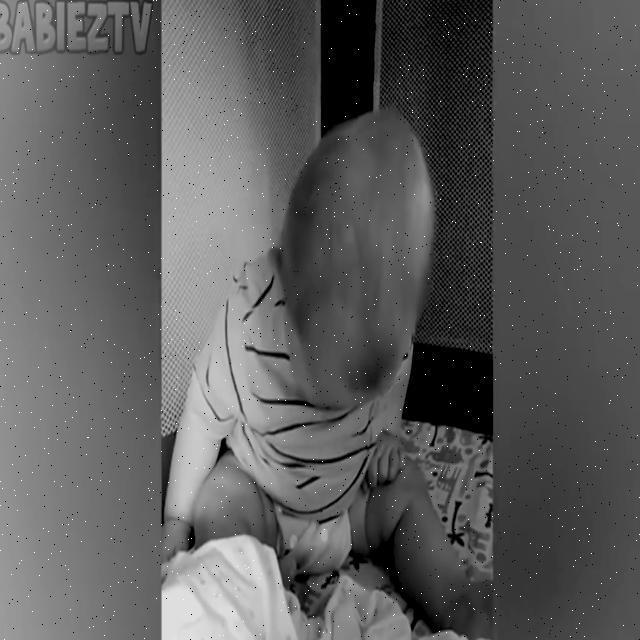child: (164, 103, 493, 640)
